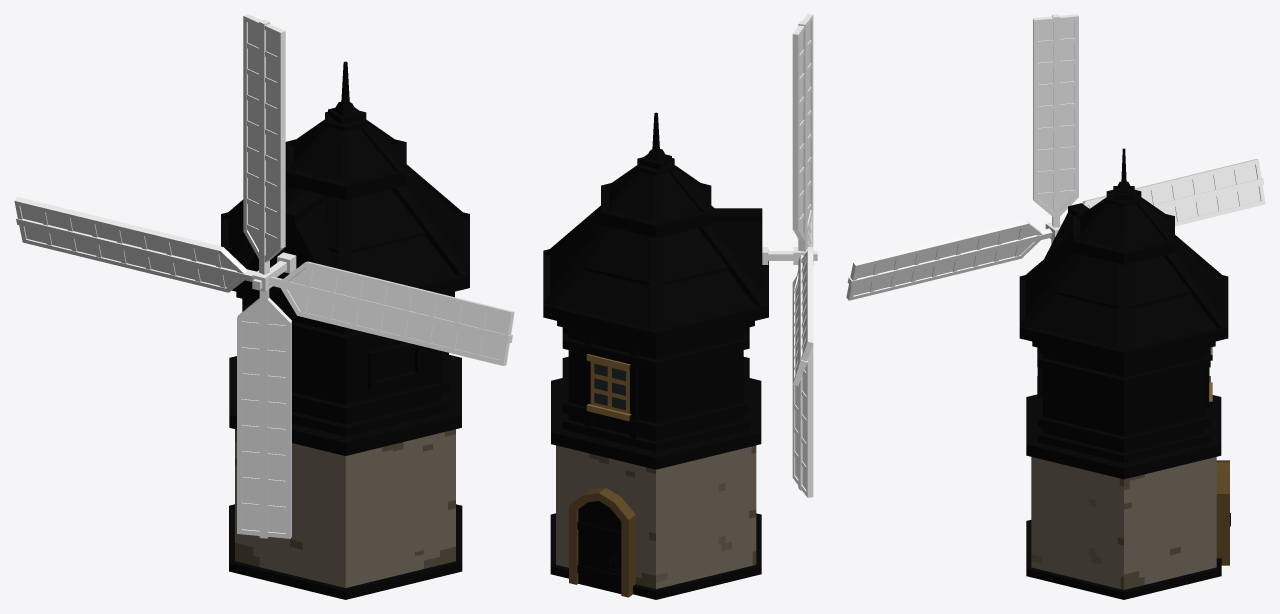
Rendered from SF_Bld_House_Windmill_01.gltf.
3 renders of one model, left to right at view 1: azimuth 30°, elevation 25°; view 2: azimuth 150°, elevation 25°; view 3: azimuth 270°, elevation 25°, orthographic. The views are drawn at different scales.
Parts seen in each view (by area): view 1: SF_Bld_House_Windmill_01, SF_Bld_HouseAdd_WindmillBlade_01; view 2: SF_Bld_House_Windmill_01, SF_Bld_HouseAdd_WindmillBlade_01; view 3: SF_Bld_House_Windmill_01, SF_Bld_HouseAdd_WindmillBlade_01.
Boxes of the visible parts, x1,y1,x2,y2 form: SF_Bld_House_Windmill_01: (221, 61, 469, 599); SF_Bld_HouseAdd_WindmillBlade_01: (14, 14, 514, 538); SF_Bld_House_Windmill_01: (543, 112, 768, 599); SF_Bld_HouseAdd_WindmillBlade_01: (762, 14, 817, 497); SF_Bld_House_Windmill_01: (1019, 148, 1230, 599); SF_Bld_HouseAdd_WindmillBlade_01: (846, 14, 1265, 300).
Size of the model in its own units: 0.1522 by 0.2241 by 0.175.
2 materials, 1 textured.
